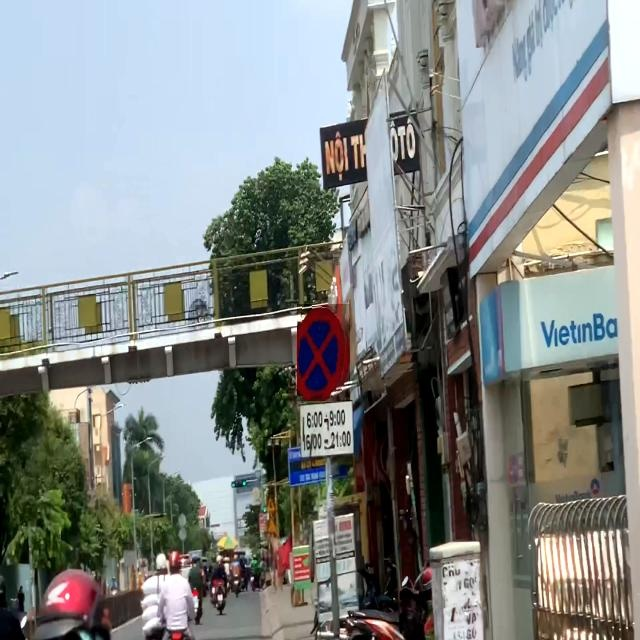bien_cam: (297, 304, 350, 401)
